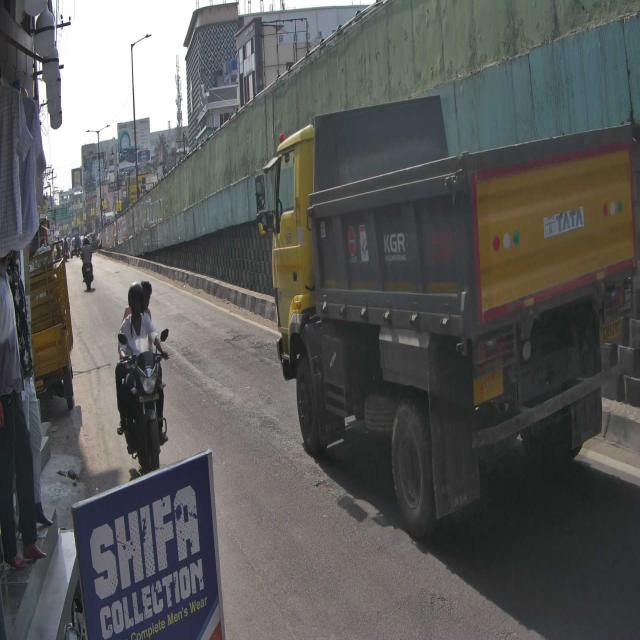double_rider: (114, 278, 173, 476)
